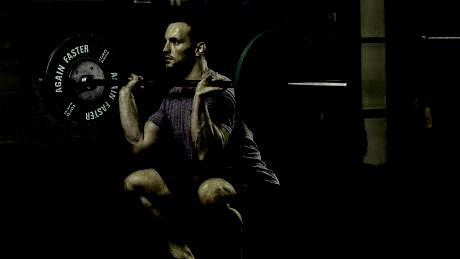Barbell: (345, 79, 359, 96)
